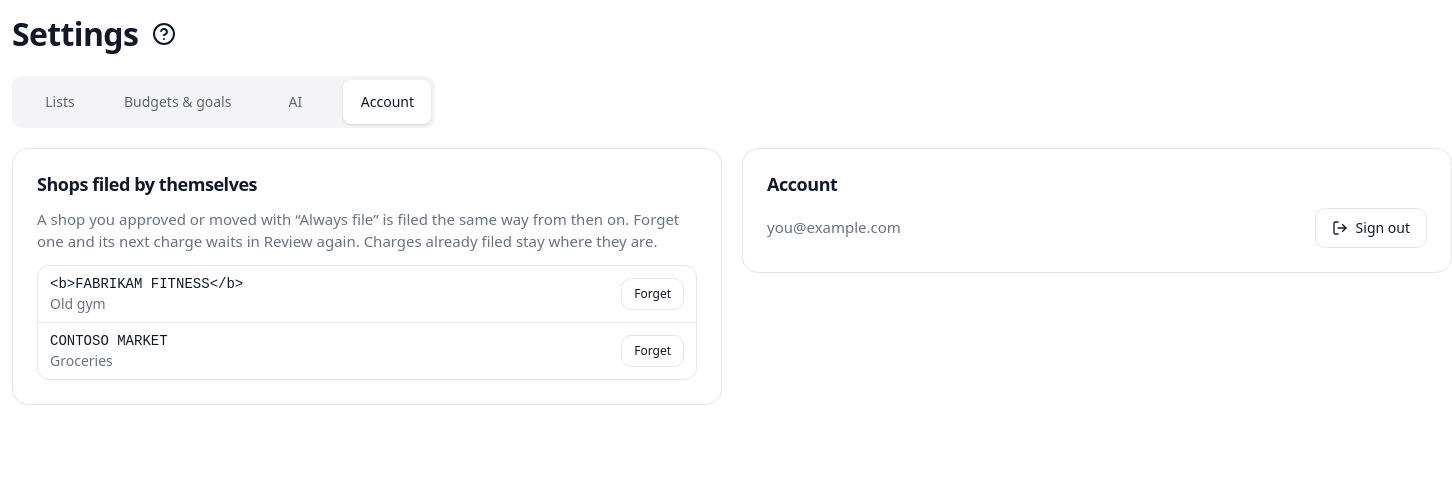
Scenario: SettingsScreen, shops filed by themselves (N17) › keeps the shop, and says why, when forgetting is refused
Click the button with aria-label "Forget CONTOSO MARKET" at (653, 350), box top-left (621, 334), bottom-right (684, 366)
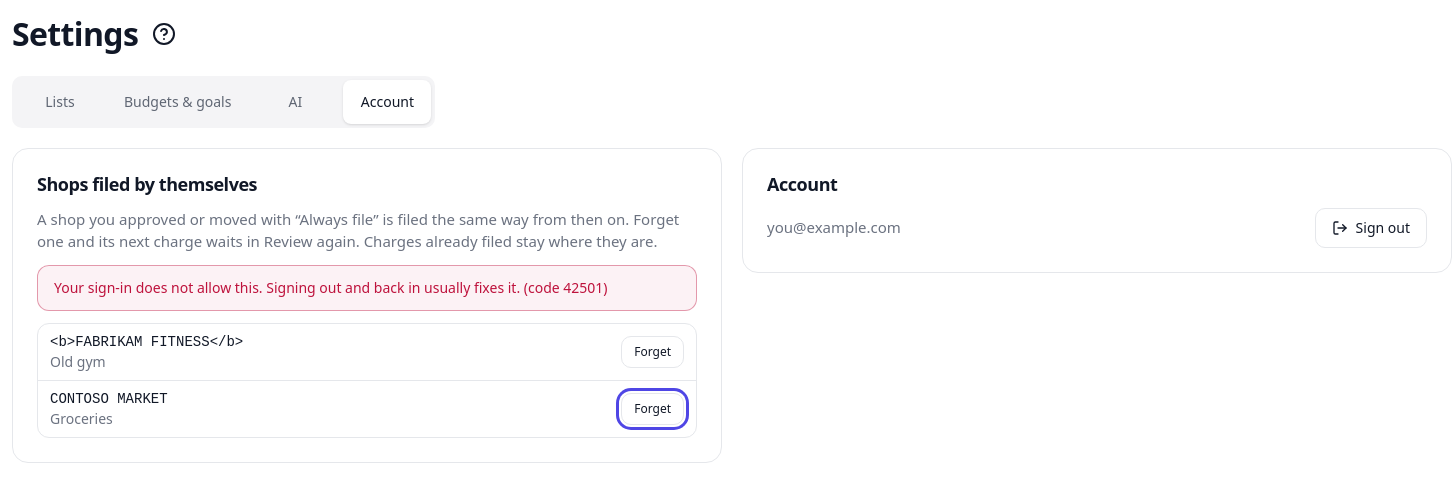
Expected: the message shows "Your sign-in does not allow this. Signing out and back in usually fixes it. (code 42501)", top-left (54, 278), bottom-right (608, 296)
